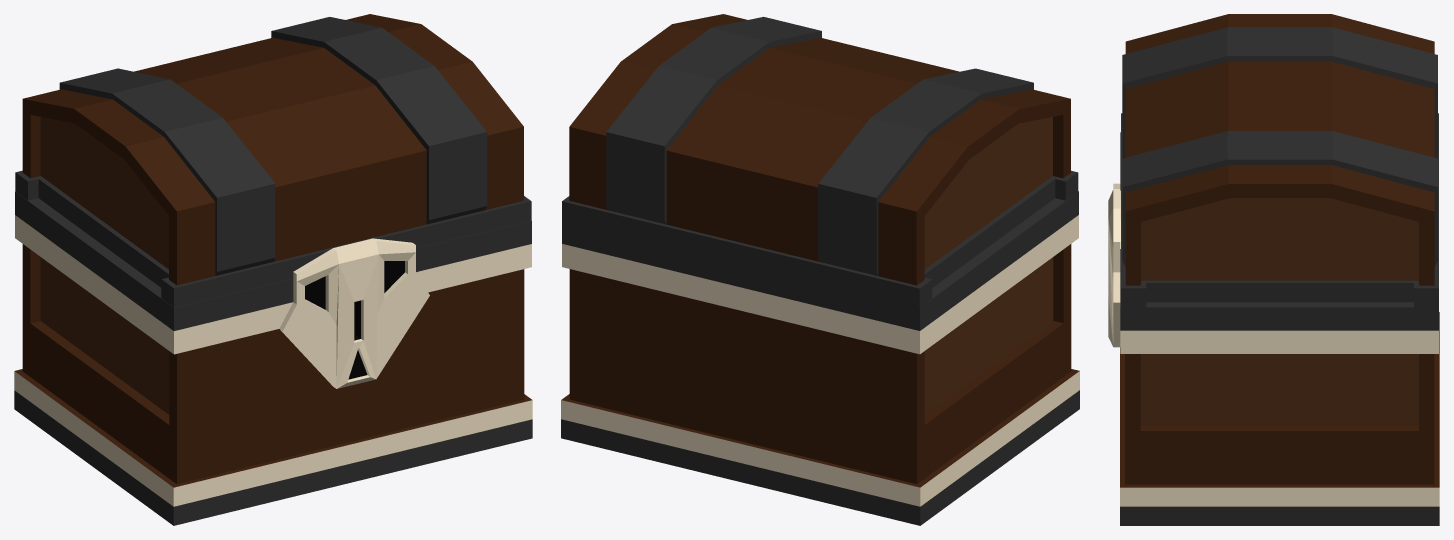
The model's file is Chest.fbx.
The picture shows the model from 3 angles, left to right: view 1: azimuth 30°, elevation 25°; view 2: azimuth 150°, elevation 25°; view 3: azimuth 270°, elevation 25°; orthographic projection.
Parts seen in each view (by area): view 1: ChestBD, ChestTD; view 2: ChestBD, ChestTD; view 3: ChestTD, ChestBD.
Part boxes in pixels (x1,y1,x2,y2): ChestBD: (14,191,532,525); ChestTD: (15,14,531,307); ChestBD: (561,191,1079,525); ChestTD: (562,14,1078,307); ChestTD: (1121,14,1438,307); ChestBD: (1108,132,1439,525).
Bounding box in the file's own units: 119 × 108 × 94.45.
